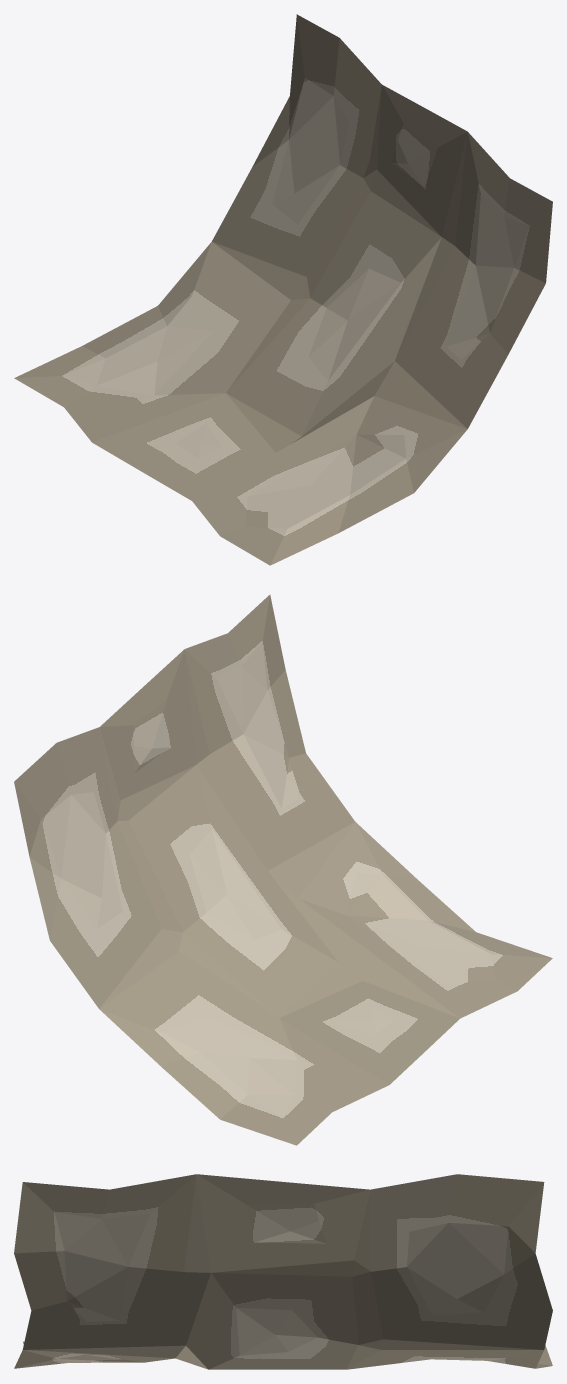
The model's file is StrongArch_03.fbx.
3 renders of one model, top to bottom at view 1: azimuth 30°, elevation 25°; view 2: azimuth 150°, elevation 25°; view 3: azimuth 270°, elevation 25°, orthographic.
Parts seen in each view (by area): view 1: StrongArch_03; view 2: StrongArch_03; view 3: StrongArch_03.
Boxes of the visible parts, bbox=[...] form: StrongArch_03: bbox=[14, 14, 552, 565]; StrongArch_03: bbox=[14, 594, 552, 1145]; StrongArch_03: bbox=[14, 1174, 552, 1369].
Bounding box in the file's own units: 65.46 × 65.24 × 103.
1 material, 1 textured.
